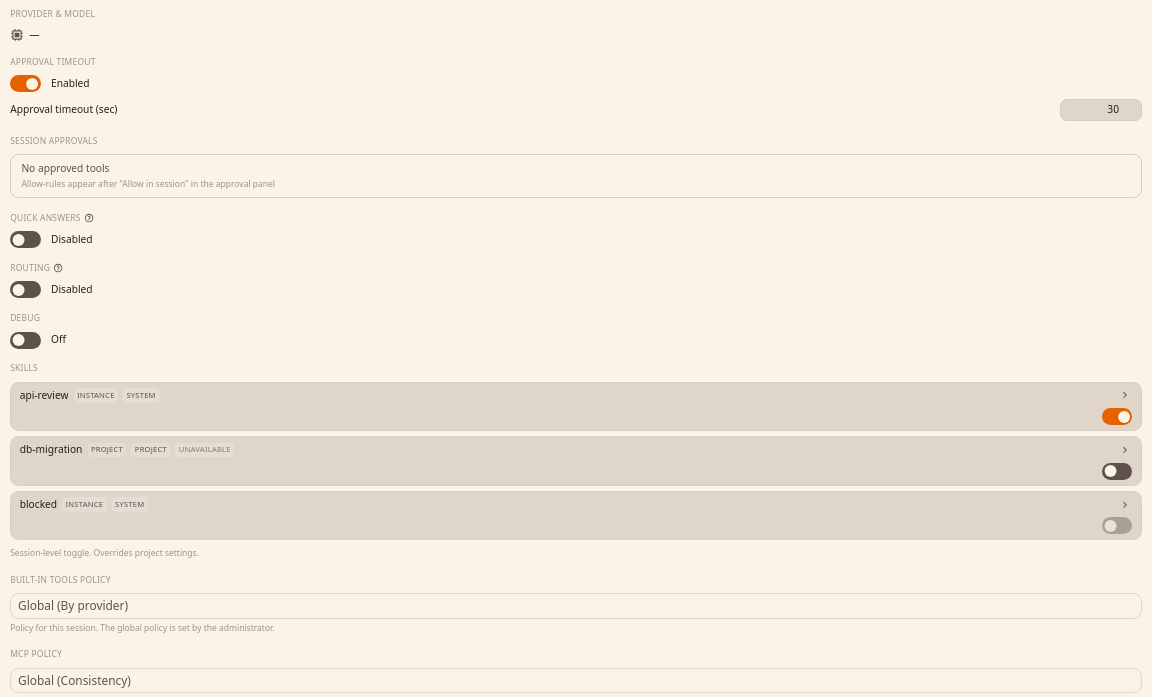
Test: SessionSettingsTab — скиллы сессии (ADR-046 §4.5) › описание скилла скрыто по умолчанию и раскрывается по кату
The width and height of the screenshot is (1152, 697).
Expected: the element with test id "session-skill-api-review" does not show "Review API"
Click the button with test id "session-skill-api-review-details-toggle": (1125, 395) left=1117, top=388, right=1132, bottom=403
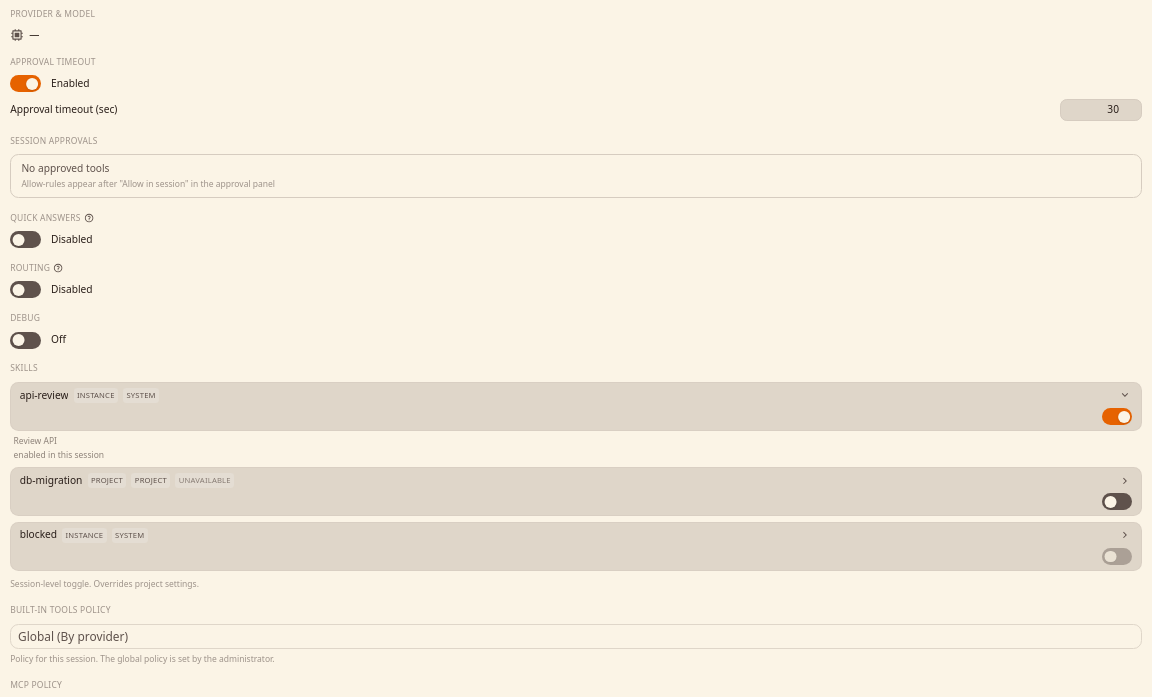
Result: the element with test id "session-skill-api-review-details-content" shows "Review API" at left=14, top=435, right=57, bottom=446
Result: the element with test id "session-skill-api-review-details-content" shows "enabled in this session" at left=14, top=449, right=104, bottom=460
